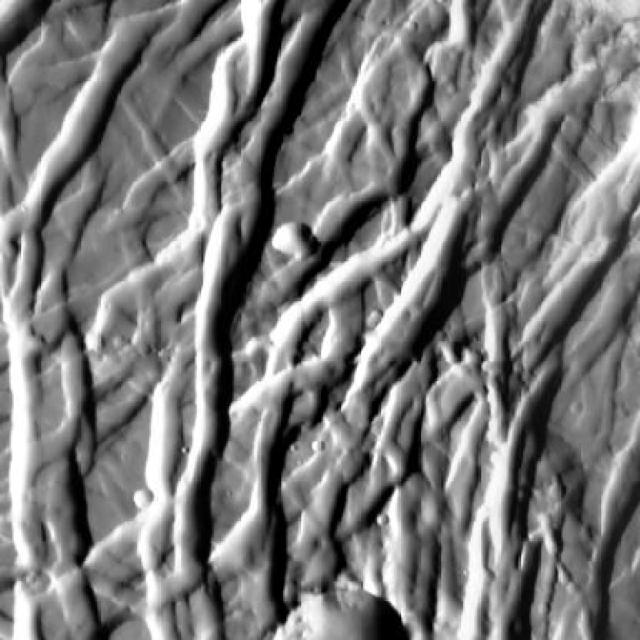crater: (131, 487, 151, 507)
